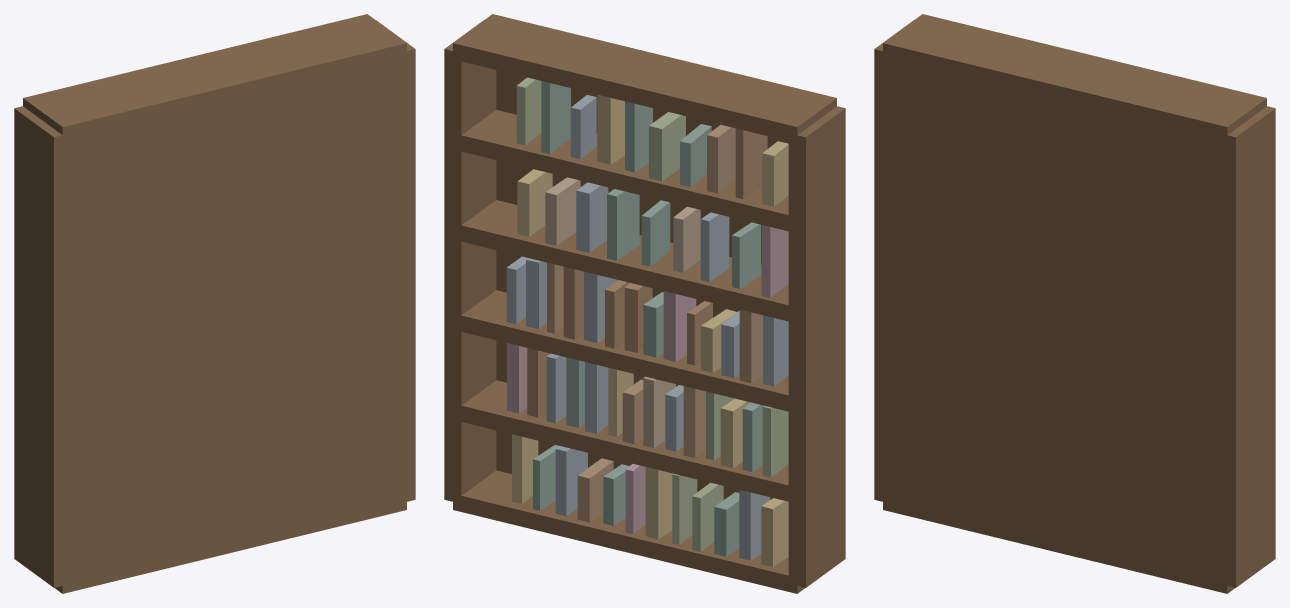
3 renders of one model, left to right at view 1: azimuth 30°, elevation 25°; view 2: azimuth 150°, elevation 25°; view 3: azimuth 330°, elevation 25°, orthographic.
Visible parts, largest first — view 1: Cube.002, Cube, Cube.008, Cube.001, Cube.003, Cube.006, Cube.005, Cube.004, Cube.007; view 2: Cube, Cube.008, Cube.001, Cube.006, Cube.007, Cube.003, Cube.004, Cube.005, Cube.002, Book.045, Book.053, Book.046 (+56 smaller); view 3: Cube.002, Cube.001, Cube.008, Cube, Cube.003, Cube.005, Cube.006, Cube.007, Cube.004.
Boxes of the visible parts, x1,y1,x2,y2 form: Cube.002: (62, 51, 406, 585); Cube: (14, 106, 71, 587); Cube.008: (23, 14, 406, 142); Cube.001: (376, 20, 415, 501); Cube.003: (55, 494, 406, 593); Cube.006: (62, 228, 406, 322); Cube.005: (63, 314, 406, 412); Cube.004: (62, 404, 405, 502); Cube.007: (63, 139, 406, 231); Cube: (788, 106, 845, 587); Cube.008: (453, 14, 836, 141); Cube.001: (444, 20, 496, 503); Cube.006: (453, 200, 796, 323); Cube.007: (453, 110, 796, 232); Cube.003: (453, 470, 804, 593); Cube.004: (453, 380, 796, 501); Cube.005: (453, 290, 796, 411); Cube.002: (496, 70, 788, 499); Book.045: (607, 189, 639, 260); Book.053: (649, 112, 685, 181); Book.046: (576, 182, 608, 252); Cube.002: (883, 52, 1227, 584); Cube.001: (1218, 106, 1275, 587); Cube.008: (883, 14, 1266, 140); Cube: (874, 20, 913, 502); Cube.003: (883, 495, 1234, 593); Cube.005: (883, 314, 1225, 411); Cube.006: (883, 227, 1226, 323); Cube.007: (883, 139, 1226, 231); Cube.004: (883, 404, 1226, 499).
Bounding box in the file's own units: 2.1 × 2.59 × 0.4.
